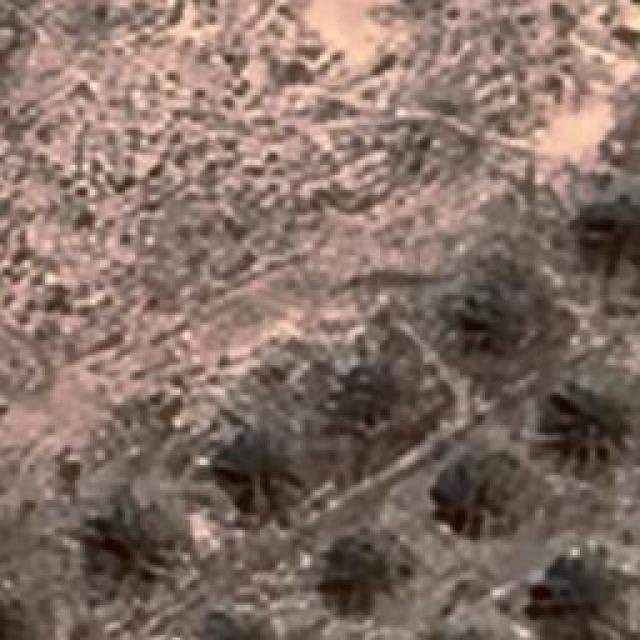PalmTree: (18, 51, 70, 615), (70, 85, 125, 544), (438, 440, 538, 538), (547, 377, 635, 475), (532, 555, 626, 640), (461, 274, 549, 358), (221, 431, 311, 509), (320, 538, 408, 612), (336, 352, 412, 436), (577, 187, 640, 270), (198, 612, 280, 640)
